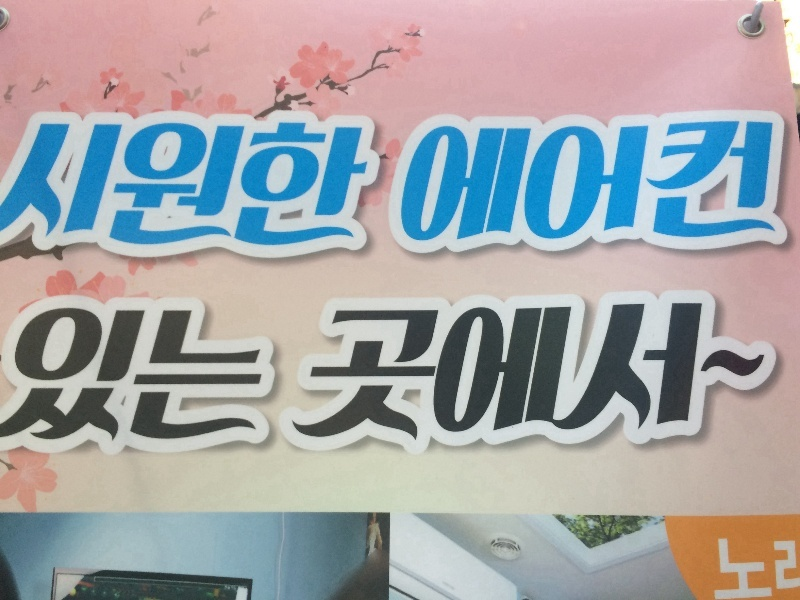text: (337, 298, 352, 445), (353, 298, 368, 445), (369, 298, 384, 445), (385, 298, 400, 445), (401, 298, 416, 445), (417, 298, 432, 445), (433, 298, 448, 445), (449, 298, 464, 445), (465, 298, 480, 445), (481, 298, 496, 445), (497, 298, 512, 445), (513, 298, 528, 445), (529, 298, 544, 445), (545, 298, 560, 445), (561, 298, 576, 445), (577, 298, 592, 445), (593, 298, 608, 445), (609, 298, 624, 445), (625, 298, 640, 445), (641, 298, 656, 445), (657, 298, 672, 445), (673, 298, 688, 445), (689, 298, 704, 445), (705, 298, 720, 445), (721, 298, 736, 445), (737, 298, 752, 445), (753, 298, 768, 445), (17, 306, 32, 443), (33, 306, 48, 443), (49, 306, 64, 443), (65, 306, 80, 443), (81, 306, 96, 443), (97, 306, 112, 443), (113, 306, 128, 443), (129, 306, 144, 443), (145, 306, 160, 443), (161, 306, 176, 443), (177, 306, 192, 443), (193, 306, 208, 443), (209, 306, 224, 443), (225, 306, 240, 443), (241, 306, 256, 443), (17, 121, 32, 256), (33, 121, 48, 256), (49, 121, 64, 256), (65, 121, 80, 256), (81, 121, 96, 256), (97, 121, 112, 256), (113, 121, 128, 256), (129, 121, 144, 256), (145, 121, 160, 256), (161, 121, 176, 256), (177, 121, 192, 256), (193, 121, 208, 256), (209, 121, 224, 256), (225, 121, 240, 256), (241, 121, 256, 256), (257, 121, 272, 256), (273, 121, 288, 256), (289, 121, 304, 256), (305, 121, 320, 256), (321, 121, 336, 256), (337, 121, 352, 256), (353, 121, 368, 256), (433, 117, 448, 243), (449, 117, 464, 243), (465, 117, 480, 243), (481, 117, 496, 243), (497, 117, 512, 243), (513, 117, 528, 243), (529, 117, 544, 243), (545, 117, 560, 243), (561, 117, 576, 243), (577, 117, 592, 243), (593, 117, 608, 243), (609, 117, 624, 243), (625, 117, 640, 243), (641, 117, 656, 243), (657, 117, 672, 243), (673, 117, 688, 243), (689, 117, 704, 243), (705, 117, 720, 243), (721, 117, 736, 243), (737, 117, 752, 243), (753, 117, 768, 243), (418, 117, 432, 243), (3, 121, 16, 256), (257, 306, 267, 443), (769, 117, 777, 243), (721, 534, 736, 599), (737, 534, 752, 599), (753, 534, 768, 599), (769, 534, 784, 599), (785, 534, 800, 599), (769, 298, 773, 445), (12, 306, 16, 443), (713, 534, 720, 599), (335, 298, 336, 445), (369, 121, 370, 256)
